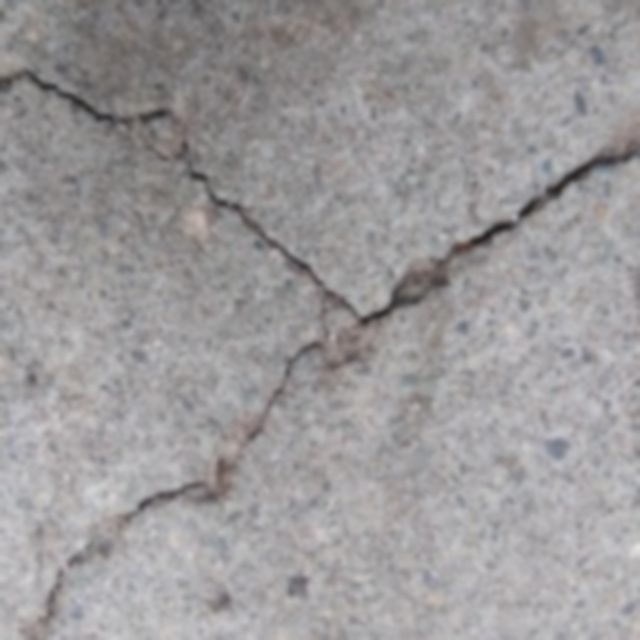SurfaceCrack: (38, 122, 640, 640), (0, 26, 386, 346)
